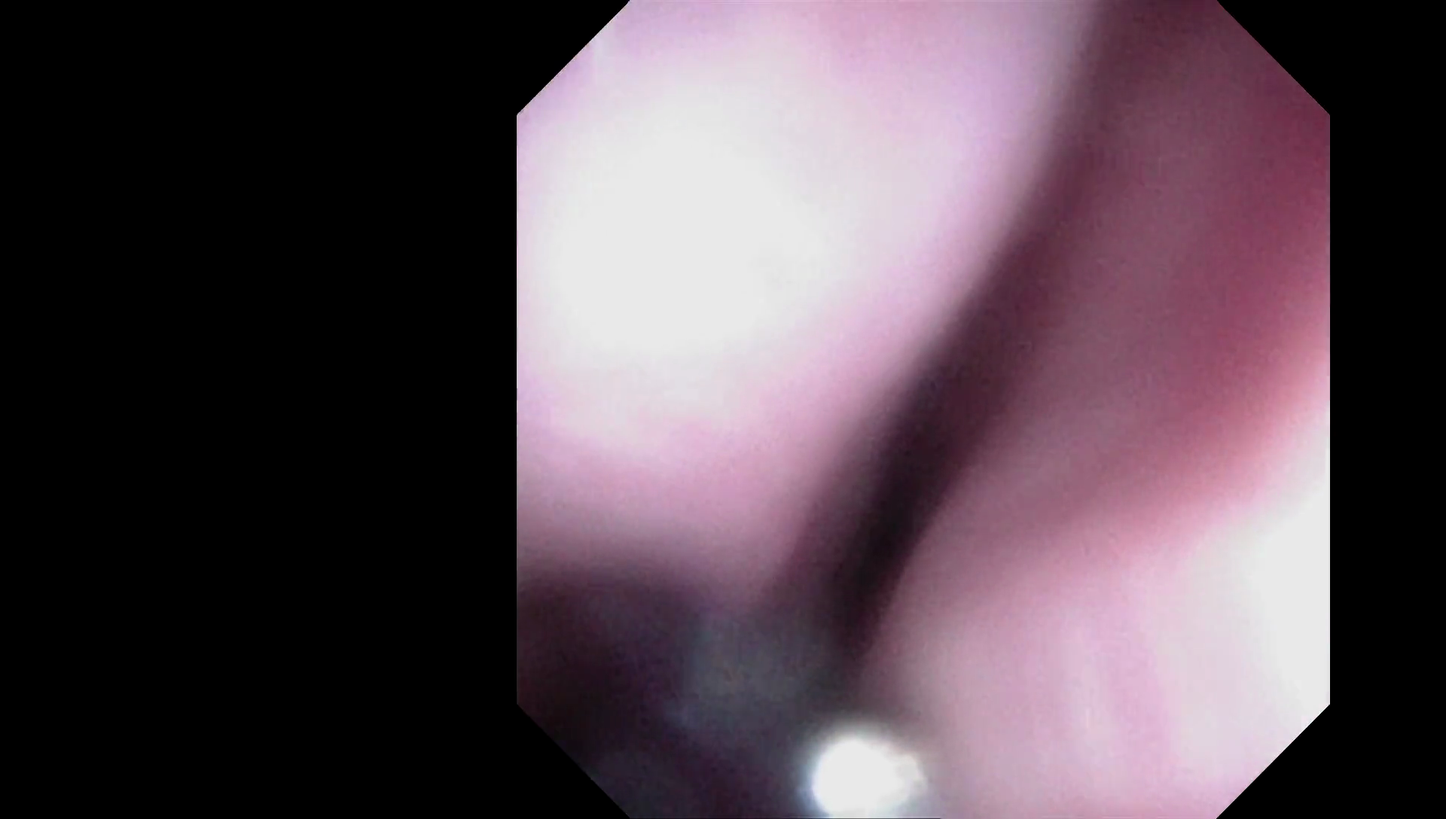close_wall: (545, 75, 947, 446), (1084, 354, 1323, 696)
next: (734, 331, 1013, 689), (530, 523, 764, 715)
